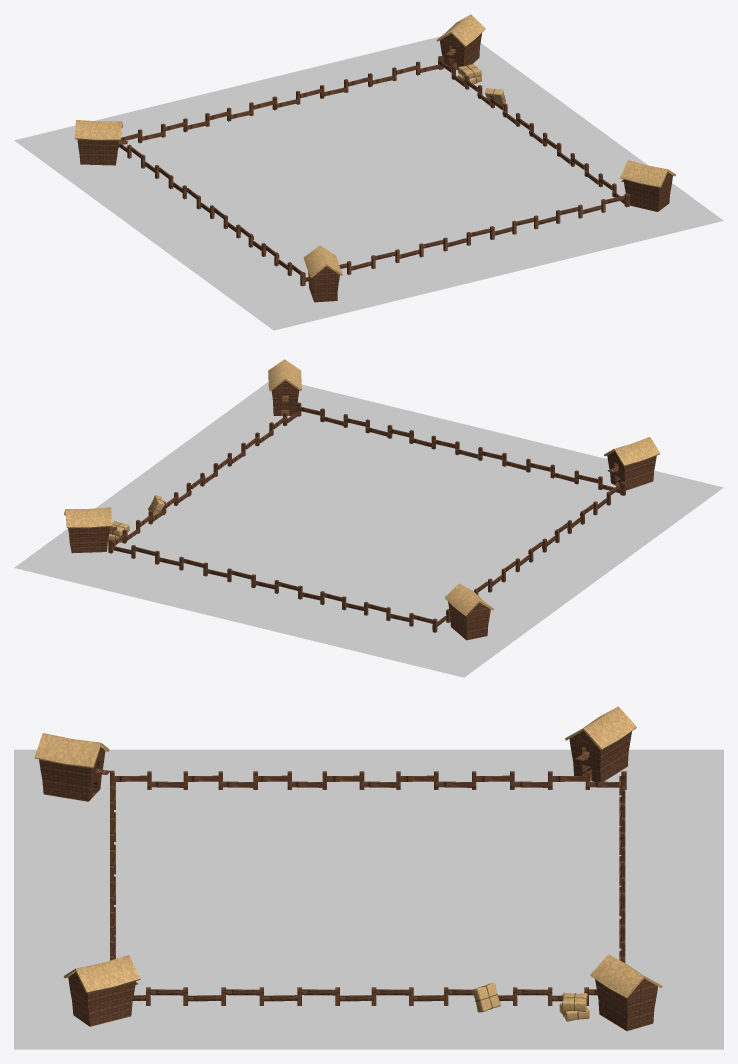
Rendered from Map001_FBX.FBX.
3 renders of one model, top to bottom at view 1: azimuth 30°, elevation 25°; view 2: azimuth 150°, elevation 25°; view 3: azimuth 270°, elevation 25°, orthographic. The views are drawn at different scales.
Parts seen in each view (by area): view 1: Plane001, Pajar001, Pajar003, Pajar, Tejado003, Pajar002, Tejado001, Tejado002, Tejado; view 2: Plane001, Pajar002, Pajar003, Pajar, Tejado, Tejado002, Pajar001, Tejado003, Tejado001; view 3: Plane001, Pajar001, Pajar, Pajar002, Pajar003, Tejado002, Tejado001, Tejado, Tejado003, Paja002.
Part boxes in pixels (<box>): Plane001: <box>14,36,723,330</box>; Pajar001: <box>621,172,672,211</box>; Pajar003: <box>77,139,127,165</box>; Pajar: <box>440,33,481,69</box>; Tejado003: <box>75,120,122,140</box>; Pajar002: <box>308,266,339,302</box>; Tejado001: <box>620,160,675,187</box>; Tejado002: <box>303,245,342,277</box>; Tejado: <box>436,14,485,47</box>; Plane001: <box>14,382,723,677</box>; Pajar002: <box>607,451,656,490</box>; Pajar003: <box>448,601,490,640</box>; Pajar: <box>68,526,117,553</box>; Tejado: <box>64,507,112,528</box>; Tejado002: <box>604,437,660,466</box>; Pajar001: <box>271,380,299,415</box>; Tejado003: <box>444,583,493,616</box>; Tejado001: <box>268,359,301,391</box>; Plane001: <box>14,749,723,1049</box>; Pajar001: <box>68,972,138,1026</box>; Pajar: <box>595,978,657,1030</box>; Pajar002: <box>39,747,109,801</box>; Pajar003: <box>569,731,631,781</box>; Tejado002: <box>34,733,109,768</box>; Tejado001: <box>64,955,140,993</box>; Tejado: <box>590,954,662,998</box>; Tejado003: <box>565,706,636,750</box>; Paja002: <box>472,983,500,1012</box>.
Bounding box in the file's own units: 70 × 6.4 × 70.
Materials: 3 (3 with a texture image).
